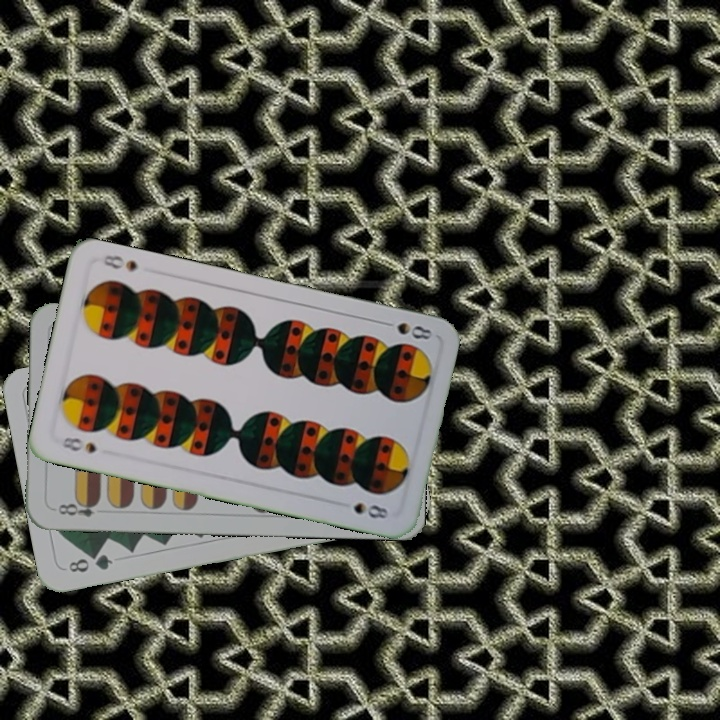E8: (50, 496, 102, 519)
G8: (64, 550, 116, 575)
S8: (376, 317, 435, 342), (56, 433, 99, 456)
